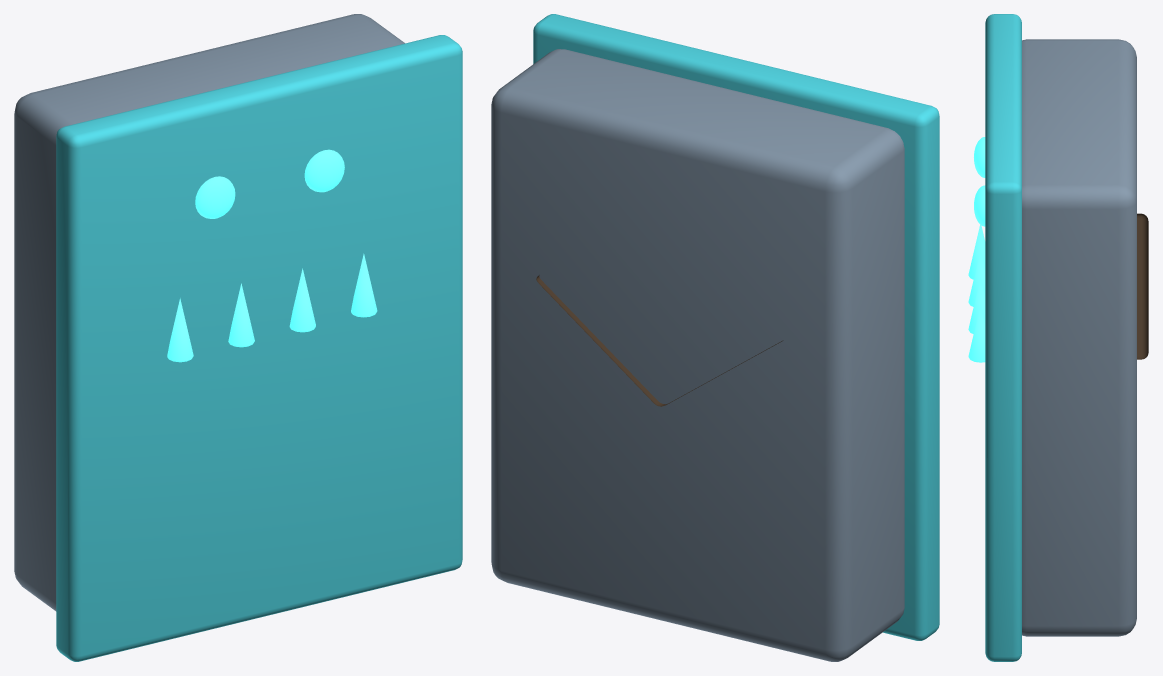
The model's file is mimic_v7.glb.
3 renders of one model, left to right at view 1: azimuth 30°, elevation 25°; view 2: azimuth 150°, elevation 25°; view 3: azimuth 270°, elevation 25°, orthographic. The views are drawn at different scales.
Parts seen in each view (by area): view 1: BOOK_COVER_ACCENT, BOOK_BODY_PRIMARY, EYE_EMISSIVE, EYE_EMISSIVE.001, BOOK_TOOTH_EMISSIVE, BOOK_TOOTH_EMISSIVE.003, BOOK_TOOTH_EMISSIVE.001, BOOK_TOOTH_EMISSIVE.002; view 2: BOOK_BODY_PRIMARY, BOOK_COVER_ACCENT, BOOK_MOUTH_SECONDARY; view 3: BOOK_BODY_PRIMARY, BOOK_COVER_ACCENT, BOOK_MOUTH_SECONDARY, BOOK_TOOTH_EMISSIVE.003, BOOK_TOOTH_EMISSIVE.001, BOOK_TOOTH_EMISSIVE.002, BOOK_TOOTH_EMISSIVE, EYE_EMISSIVE.001, EYE_EMISSIVE.
Boxes of the visible parts, bbox=[...] form: BOOK_COVER_ACCENT: bbox=[56, 35, 462, 661]; BOOK_BODY_PRIMARY: bbox=[14, 14, 404, 611]; EYE_EMISSIVE: bbox=[195, 176, 235, 218]; EYE_EMISSIVE.001: bbox=[304, 149, 344, 192]; BOOK_TOOTH_EMISSIVE: bbox=[167, 298, 193, 362]; BOOK_TOOTH_EMISSIVE.003: bbox=[351, 253, 377, 317]; BOOK_TOOTH_EMISSIVE.001: bbox=[228, 283, 254, 347]; BOOK_TOOTH_EMISSIVE.002: bbox=[289, 268, 315, 332]; BOOK_BODY_PRIMARY: bbox=[491, 49, 904, 661]; BOOK_COVER_ACCENT: bbox=[533, 14, 939, 640]; BOOK_MOUTH_SECONDARY: bbox=[536, 275, 783, 406]; BOOK_BODY_PRIMARY: bbox=[1022, 39, 1136, 636]; BOOK_COVER_ACCENT: bbox=[985, 14, 1021, 661]; BOOK_MOUTH_SECONDARY: bbox=[1137, 213, 1148, 359]; BOOK_TOOTH_EMISSIVE.003: bbox=[968, 304, 985, 362]; BOOK_TOOTH_EMISSIVE.001: bbox=[968, 250, 985, 306]; BOOK_TOOTH_EMISSIVE.002: bbox=[968, 277, 985, 333]; BOOK_TOOTH_EMISSIVE: bbox=[968, 224, 985, 279]; EYE_EMISSIVE.001: bbox=[974, 185, 985, 226]; EYE_EMISSIVE: bbox=[974, 137, 985, 177].
Size of the model in its own units: 1.8 by 2.3 by 0.7833.
